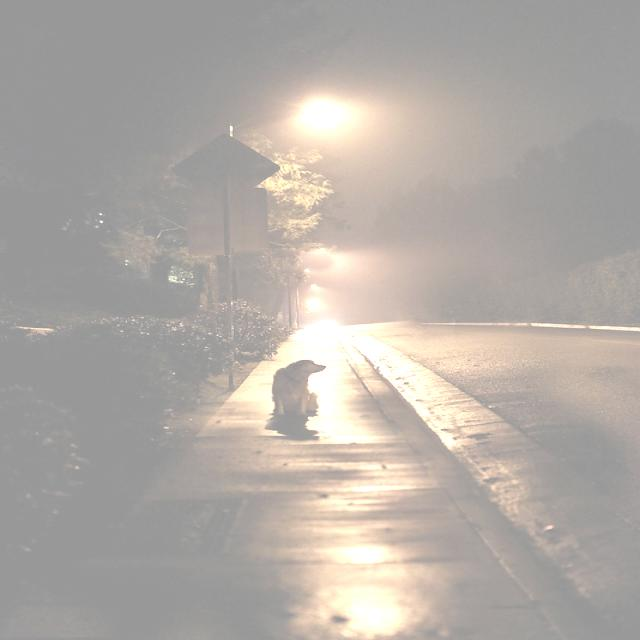Dog: (242, 359, 366, 440)
